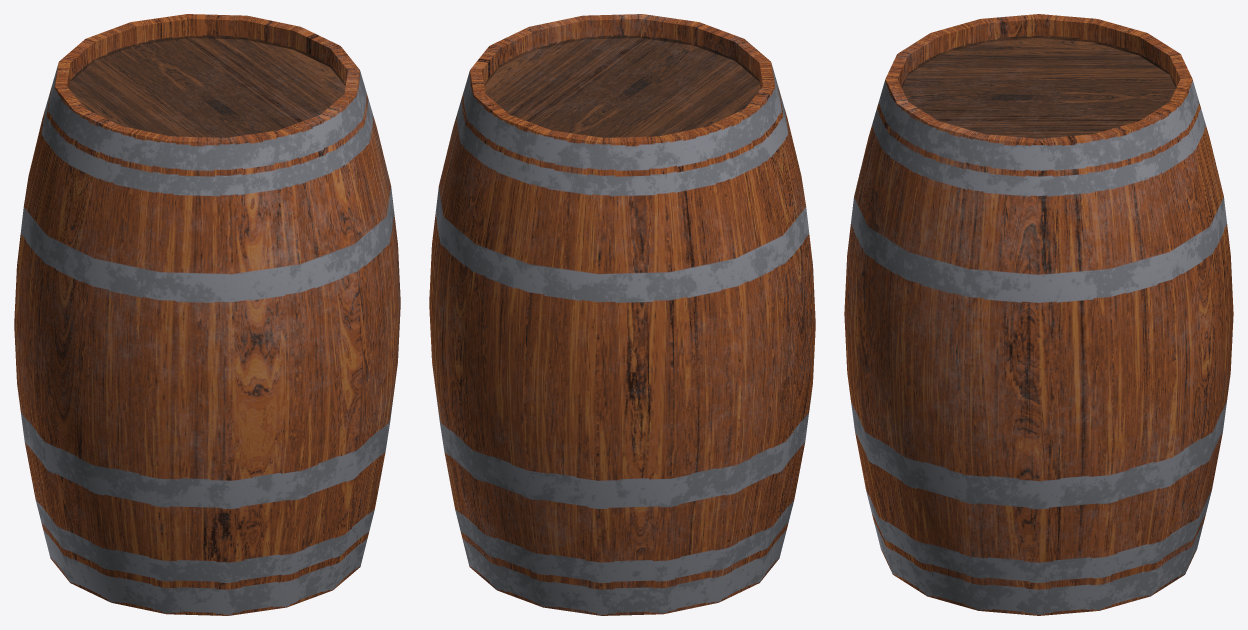
File: Barrel.fbx
The picture shows the model from 3 angles, left to right: view 1: azimuth 30°, elevation 25°; view 2: azimuth 150°, elevation 25°; view 3: azimuth 270°, elevation 25°; orthographic projection.
Parts seen in each view (by area): view 1: Barrel; view 2: Barrel; view 3: Barrel.
Part boxes in pixels (x1=…): Barrel: x1=14, y1=14, x2=400, y2=615; Barrel: x1=429, y1=14, x2=815, y2=615; Barrel: x1=844, y1=14, x2=1233, y2=615.
Size of the model in its own units: 0.6481 by 0.864 by 0.6481.
1 material, 1 textured.
